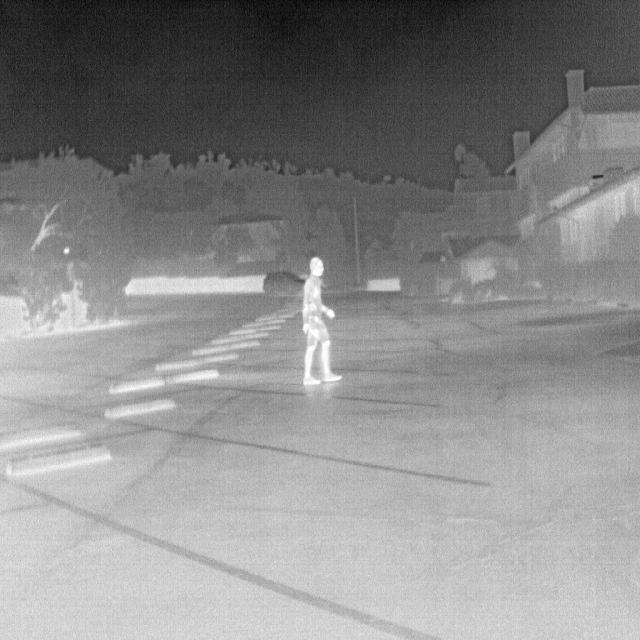Pedestrian: (301, 256, 343, 385)
